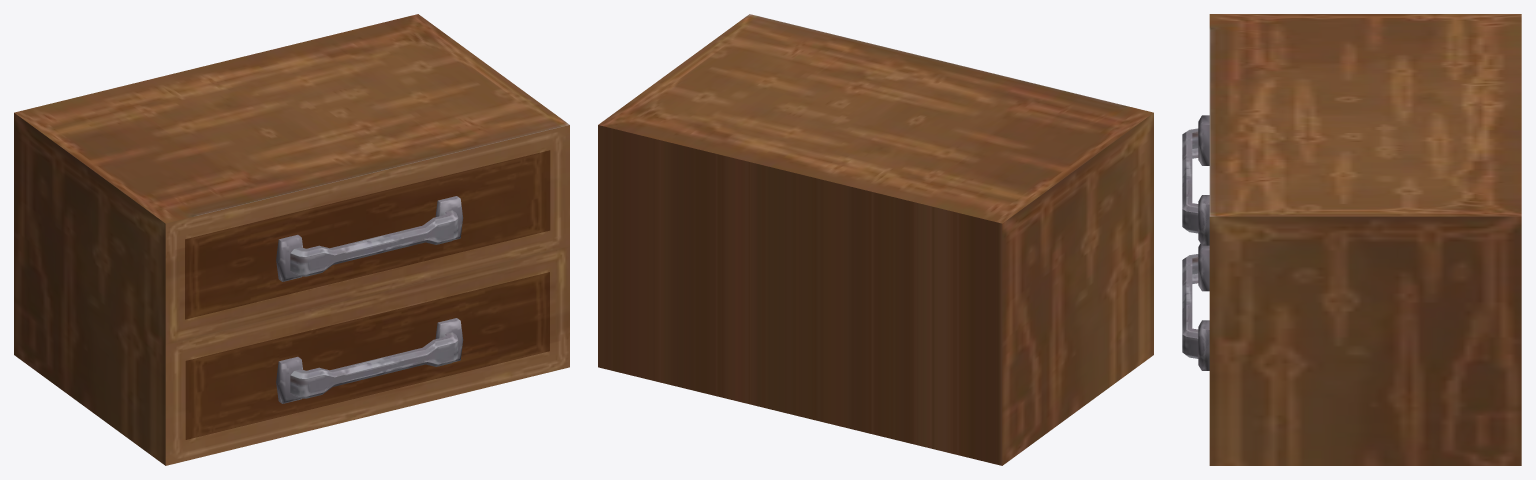
The model's file is Workbench_Drawers.glb.
3 views of the same model, side by side, from view 1: azimuth 30°, elevation 25°; view 2: azimuth 150°, elevation 25°; view 3: azimuth 270°, elevation 25° (orthographic). The views are drawn at different scales.
Visible parts, largest first — view 1: Workbench_Drawers; view 2: Workbench_Drawers; view 3: Workbench_Drawers.
Part boxes in pixels (x1=…): Workbench_Drawers: x1=14, y1=14, x2=569, y2=465; Workbench_Drawers: x1=598, y1=14, x2=1153, y2=465; Workbench_Drawers: x1=1182, y1=14, x2=1521, y2=465.
Size of the model in its own units: 0.4231 by 0.2424 by 0.299.
Materials: 2 (2 with a texture image).
